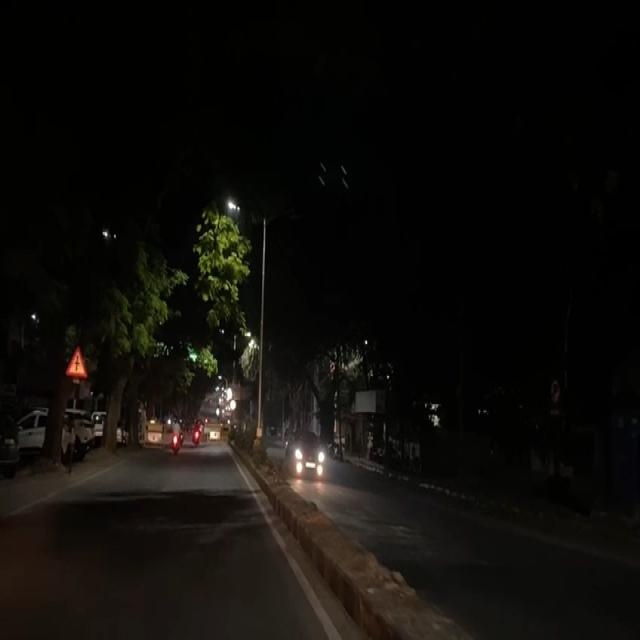bien_nguy_hiem: (65, 345, 89, 379)
